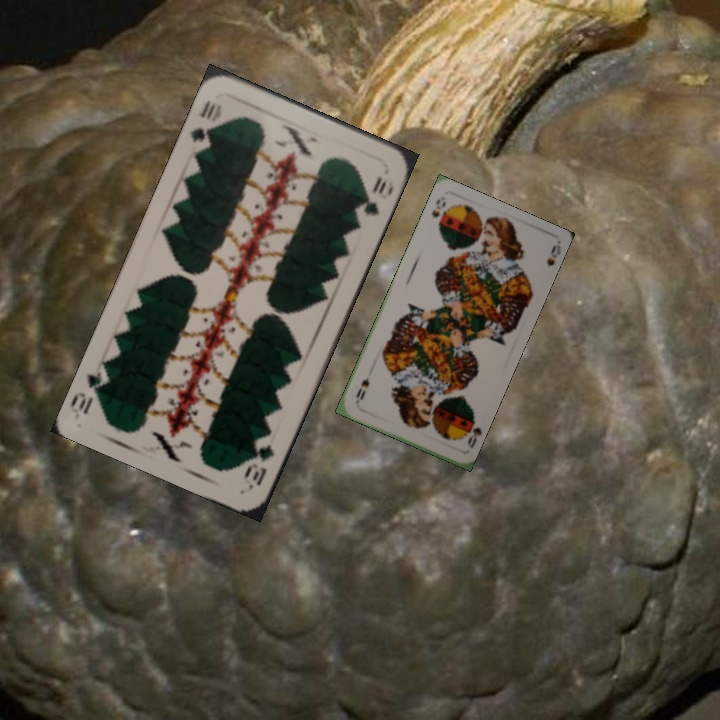G10: (186, 95, 225, 146), (241, 440, 277, 488)
SO: (460, 411, 484, 451), (428, 195, 448, 228)
